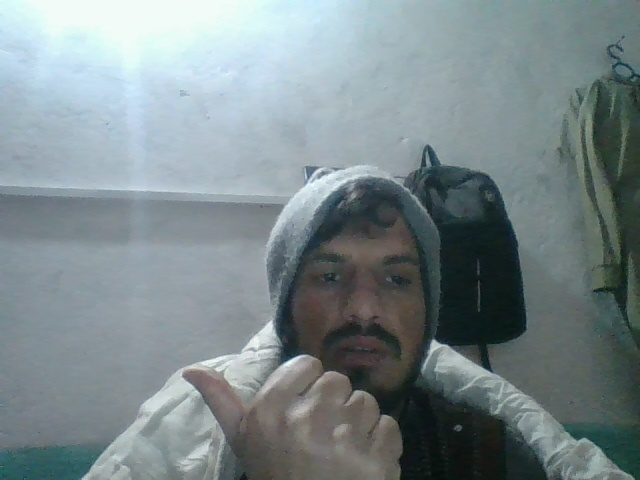ThumbsUp: (175, 351, 426, 480)
